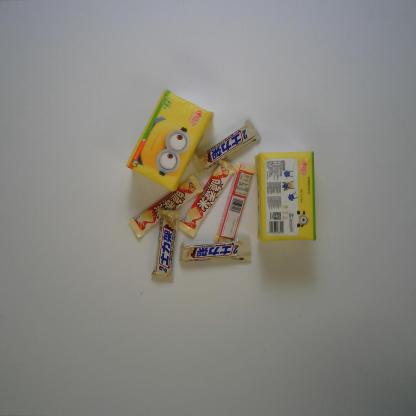Chocolate: (127, 170, 206, 240), (175, 153, 237, 242), (193, 116, 264, 175), (215, 162, 259, 245), (148, 207, 189, 284), (178, 235, 252, 271)
Tissue: (125, 88, 214, 194), (253, 149, 317, 244)
